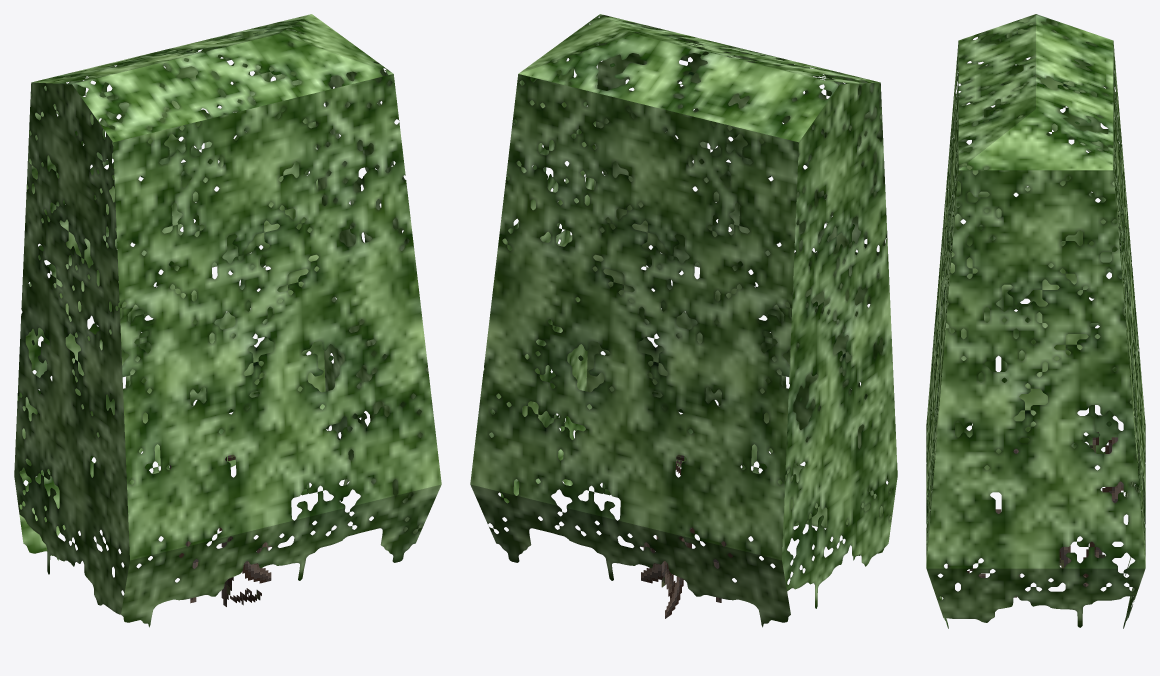
File: bush_tall_half_open_right_roots_summer.fbx
The picture shows the model from 3 angles, left to right: view 1: azimuth 30°, elevation 25°; view 2: azimuth 150°, elevation 25°; view 3: azimuth 270°, elevation 25°; orthographic projection. The views are drawn at different scales.
Parts seen in each view (by area): view 1: bush_tall_half_open_right_roots_summer; view 2: bush_tall_half_open_right_roots_summer; view 3: bush_tall_half_open_right_roots_summer.
Boxes of the visible parts, <box> form: bush_tall_half_open_right_roots_summer: <box>14,14,441,627</box>; bush_tall_half_open_right_roots_summer: <box>470,14,897,627</box>; bush_tall_half_open_right_roots_summer: <box>926,14,1145,628</box>.
Bounding box in the file's own units: 112 × 188 × 71.91.
2 materials, 2 textured.
